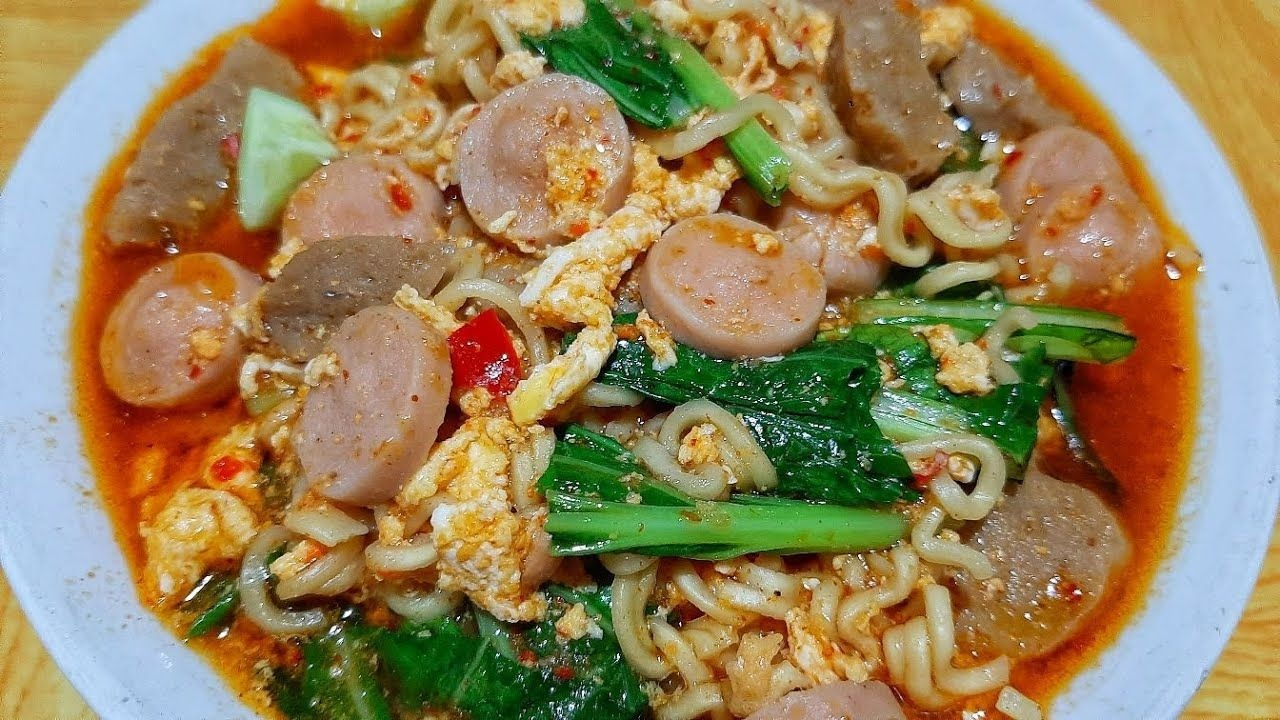seblak: (67, 1, 1212, 720)
